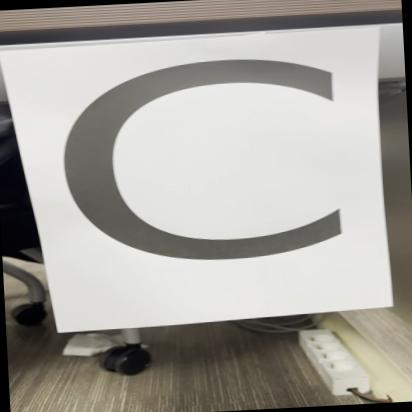seat: (0, 22, 403, 336)
